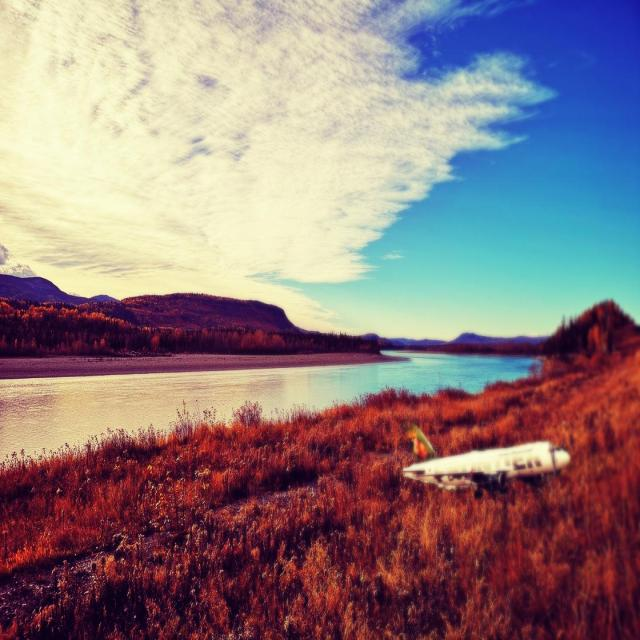airplane: (401, 427, 571, 494)
